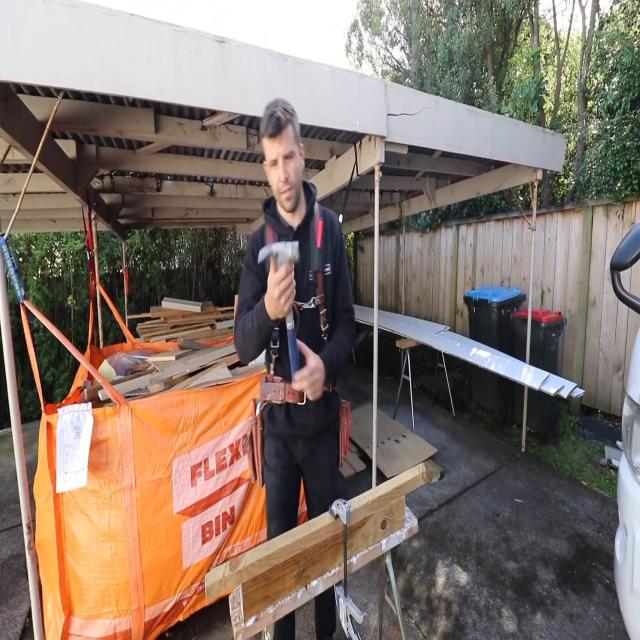hammer: (258, 241, 299, 380)
